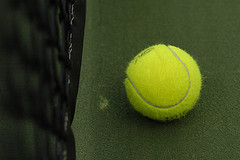tennis ball: (121, 41, 204, 123)
